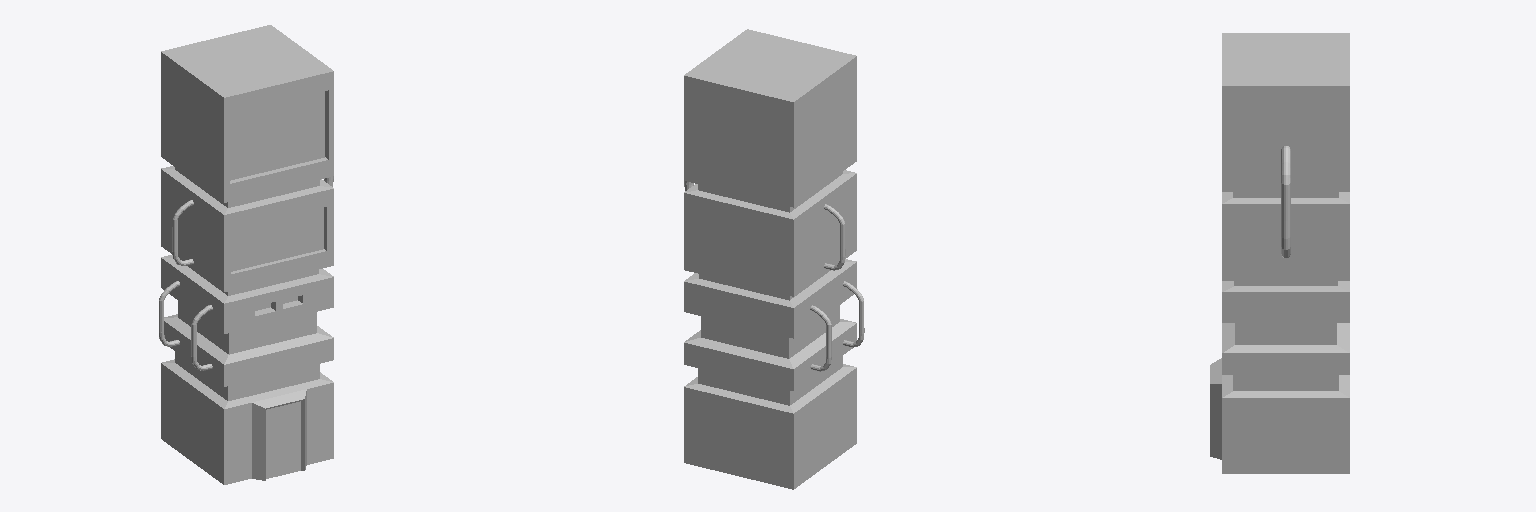
Rendered from Building1.obj.
3 views of the same model, side by side, from view 1: azimuth 30°, elevation 25°; view 2: azimuth 150°, elevation 25°; view 3: azimuth 270°, elevation 25° (orthographic).
Visible parts, largest first — view 1: Building1_Cube.002; view 2: Building1_Cube.002; view 3: Building1_Cube.002.
Part boxes in pixels (x1,y1,x2,y2): Building1_Cube.002: (159, 25, 333, 484); Building1_Cube.002: (684, 29, 864, 489); Building1_Cube.002: (1210, 33, 1349, 473).
Bounding box in the file's own units: 7.44 × 17.18 × 5.59.